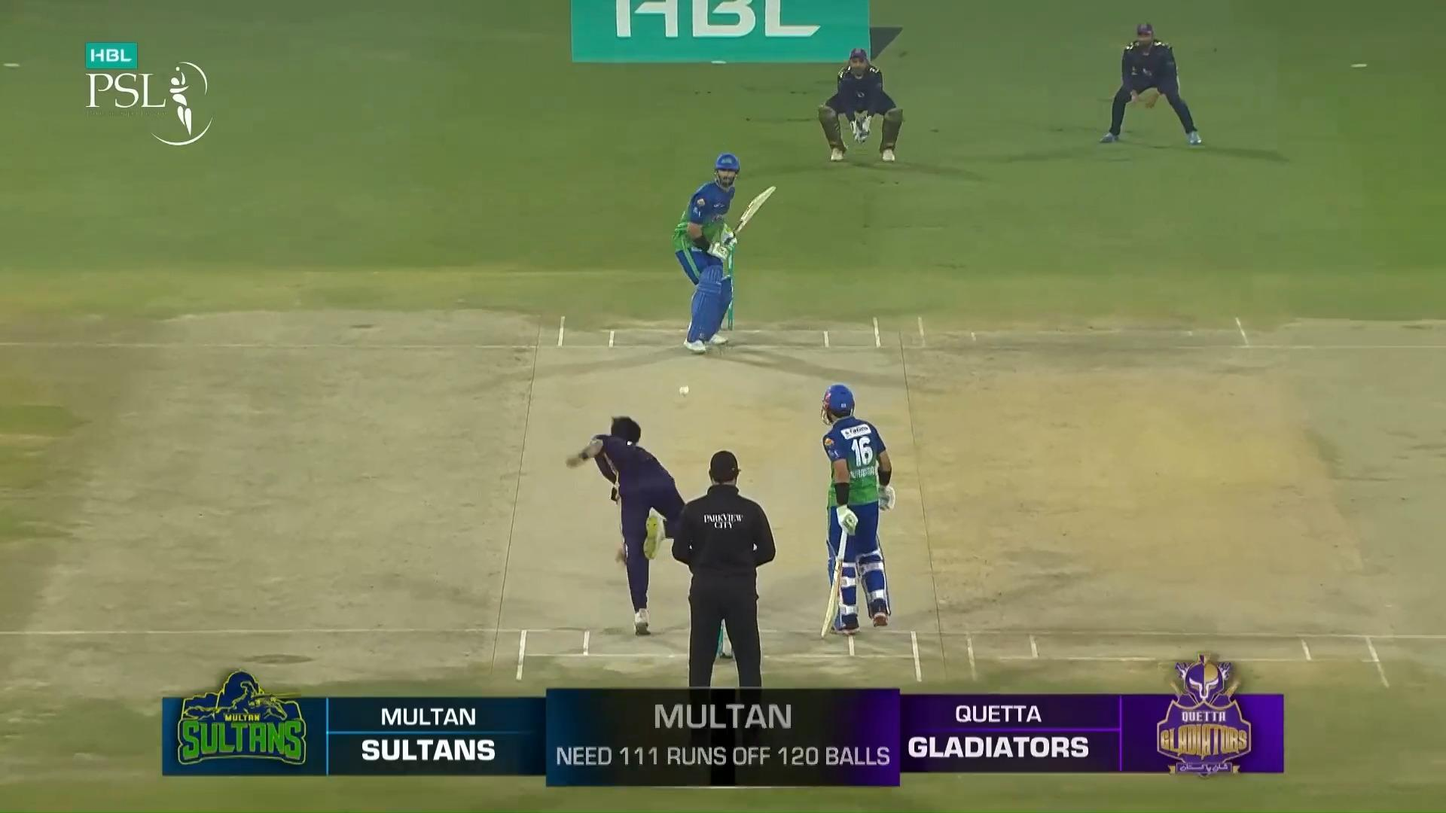batsman: (672, 154, 777, 356)
